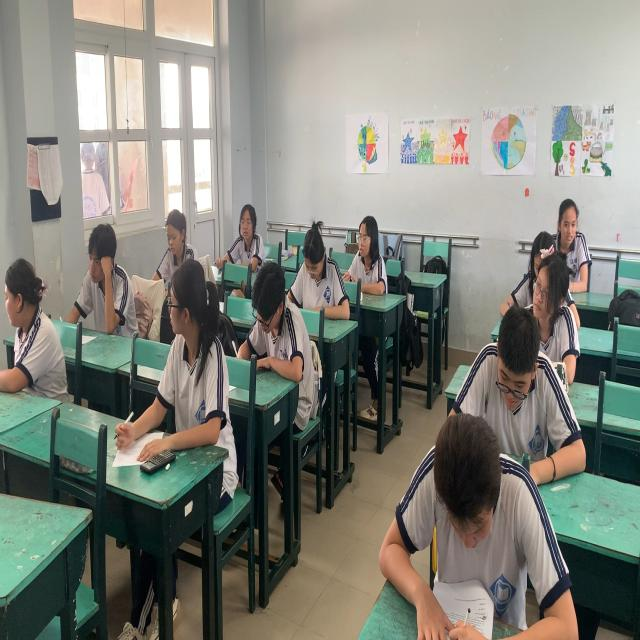cheating: (161, 255, 233, 437), (0, 256, 62, 398)
not_cheating: (400, 400, 548, 638), (466, 303, 562, 479), (523, 244, 579, 393), (77, 220, 136, 334), (251, 251, 295, 382), (552, 193, 598, 306), (297, 223, 342, 314), (348, 218, 387, 296), (225, 202, 266, 276), (153, 204, 200, 268)
